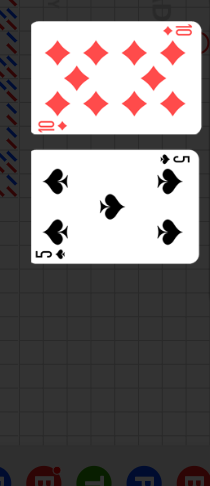10D: (161, 24, 193, 37)
5S: (34, 248, 67, 260)
